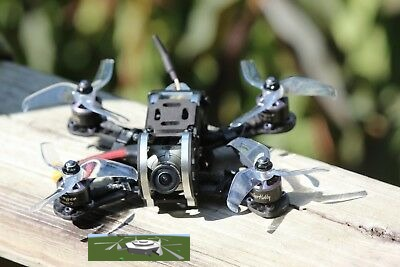drone: (23, 35, 368, 233), (88, 234, 190, 261)
